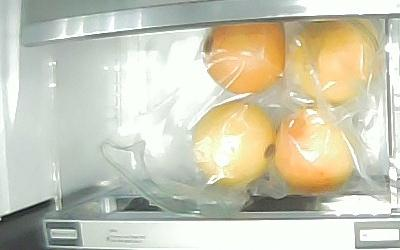grapefruit_vinyl: (293, 20, 381, 108), (192, 101, 276, 186), (276, 109, 355, 196), (203, 20, 286, 94)
